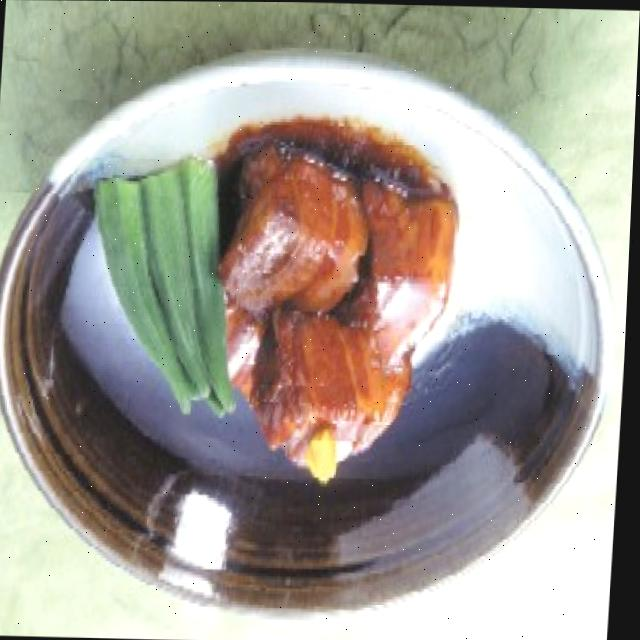猪肉菜式: (0, 49, 625, 632)
